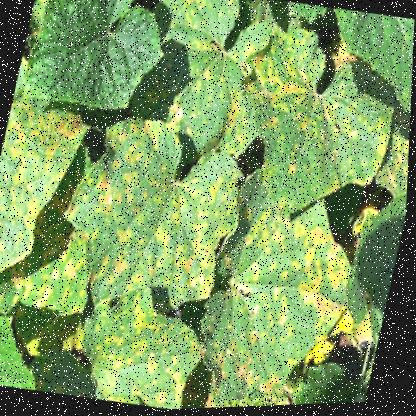DownyMildew: (81, 118, 242, 320), (204, 209, 357, 387)
